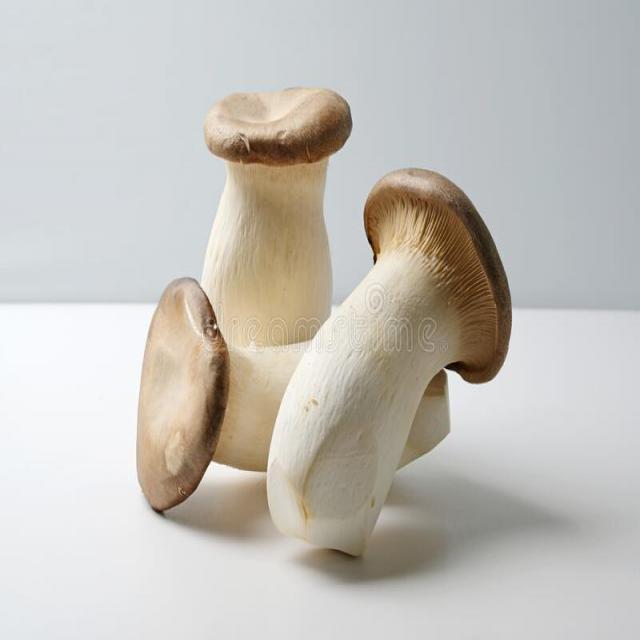Pleurotus eryngii: (135, 86, 512, 554)
